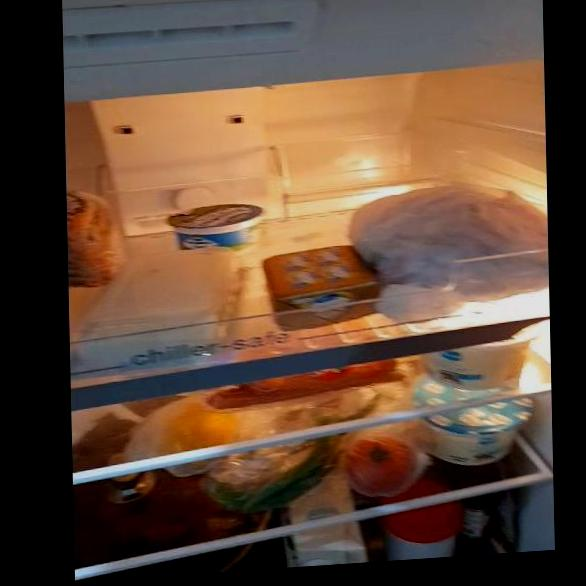bread: (67, 186, 127, 284)
butter: (260, 245, 373, 320)
carrot: (212, 363, 402, 397)
cheese: (98, 261, 223, 337)
green chilies: (216, 443, 367, 504)
lemon: (164, 401, 239, 460)
milk: (291, 496, 362, 567)
tomato: (349, 439, 420, 490)
yoghurt: (437, 403, 526, 464), (172, 201, 264, 256), (424, 340, 533, 386)
